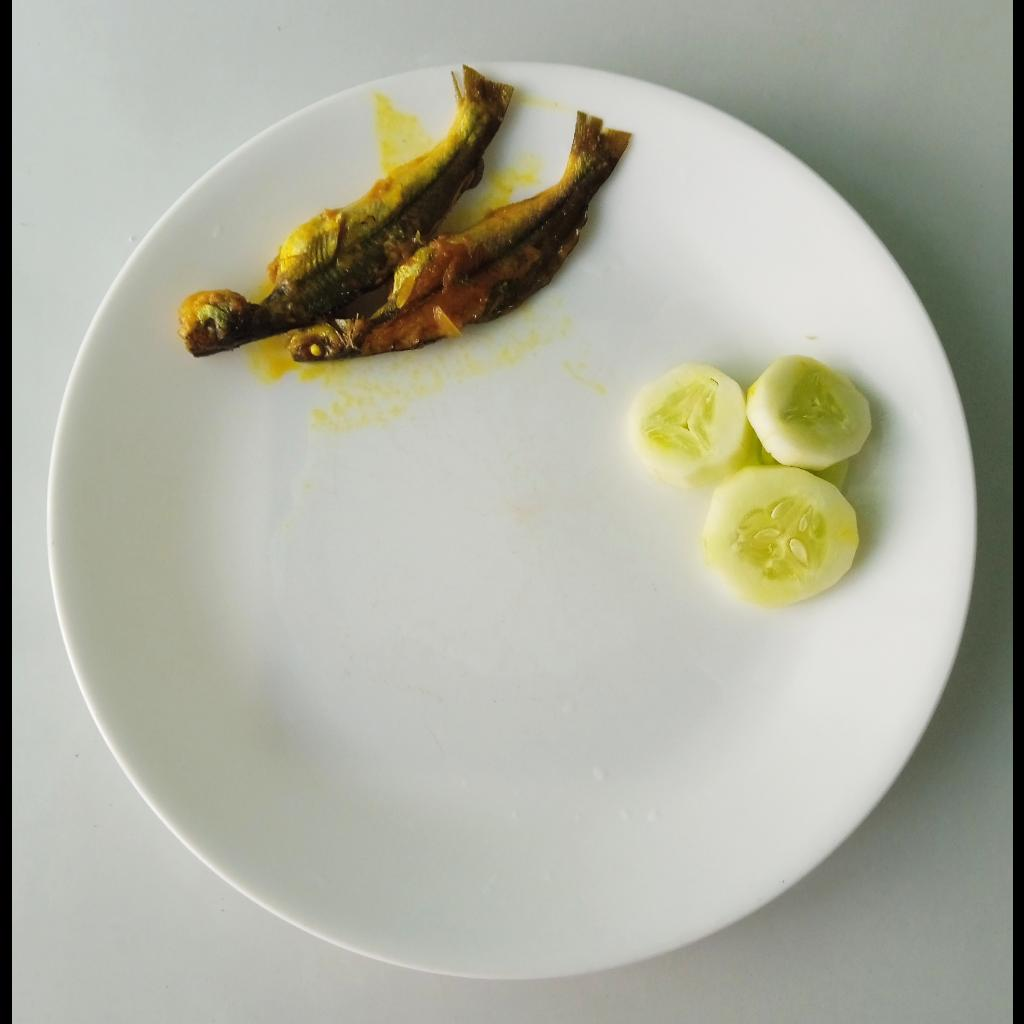cucumber: (633, 353, 875, 603)
fish: (171, 67, 636, 363)
